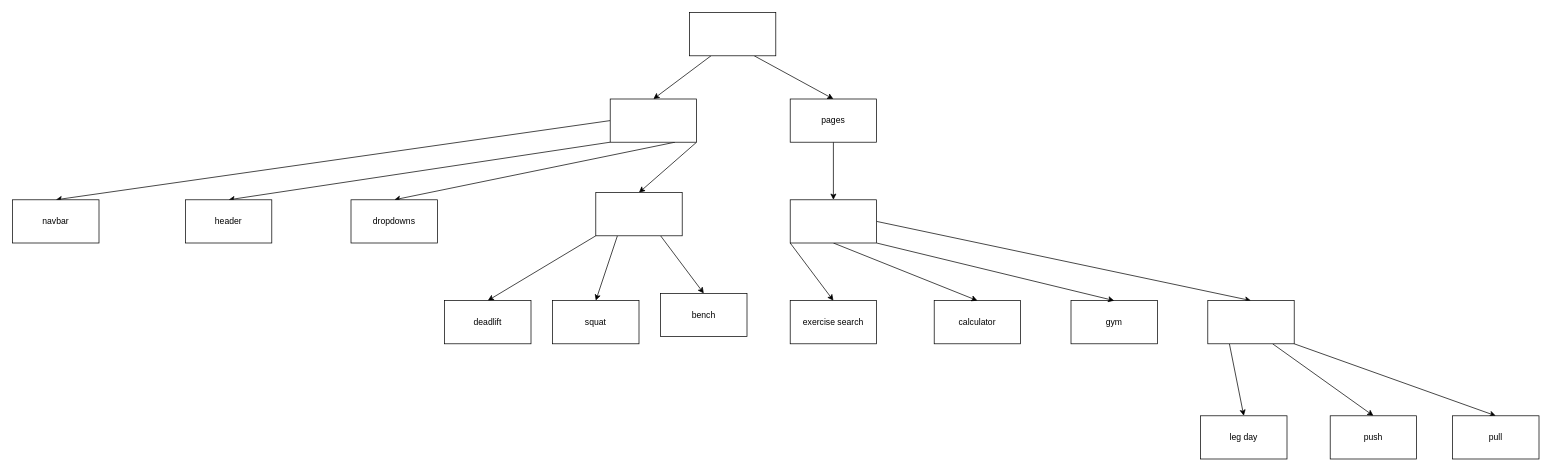
Image size: 1552x472. Some labels were removed from this diagram. Here are the shapes that lost their labels. From the top down, the centre of each, then its label:
At [732,34]: "APP".
At [653,120]: "componenets".
At [638,214]: "calculations".
At [833,221]: "home".
At [1250,322]: "quick workouts".
